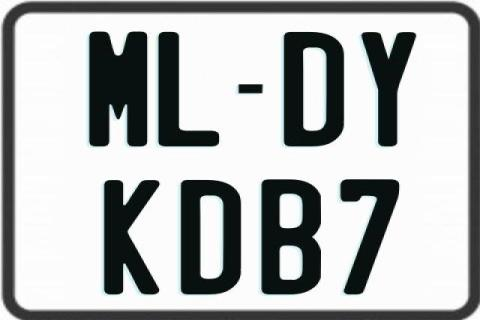0: (338, 180, 398, 300)
B: (262, 177, 327, 293)
D: (281, 32, 347, 148), (182, 180, 248, 296)
K: (104, 180, 160, 298)
L: (156, 31, 222, 145)
M: (89, 31, 147, 149)
Y: (360, 30, 419, 146)
